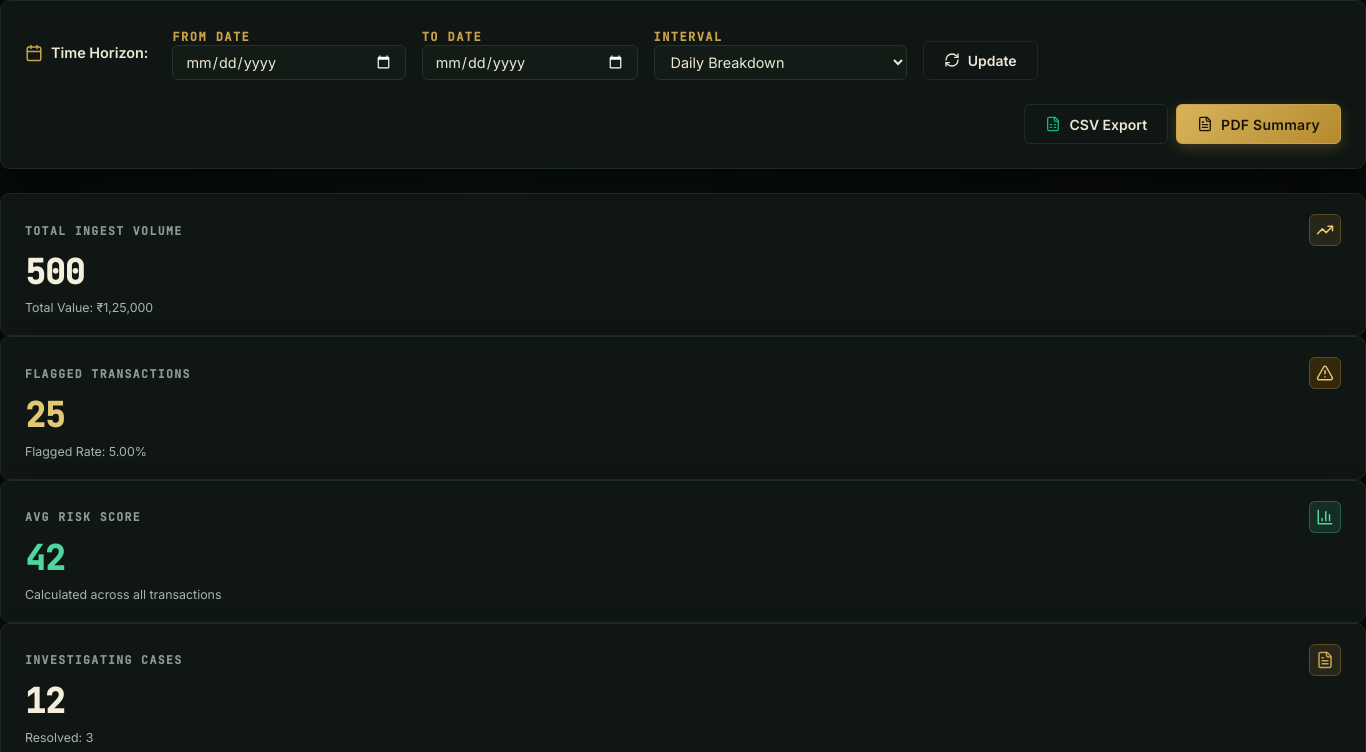
Test case: ReportsPage › shows error banner when report export action fails
Expected: the text "500" is shown, 25,248 -> 84,294
Step 1. Click the button "PDF Summary" → (1259, 124), box 1176,104 -> 1341,144
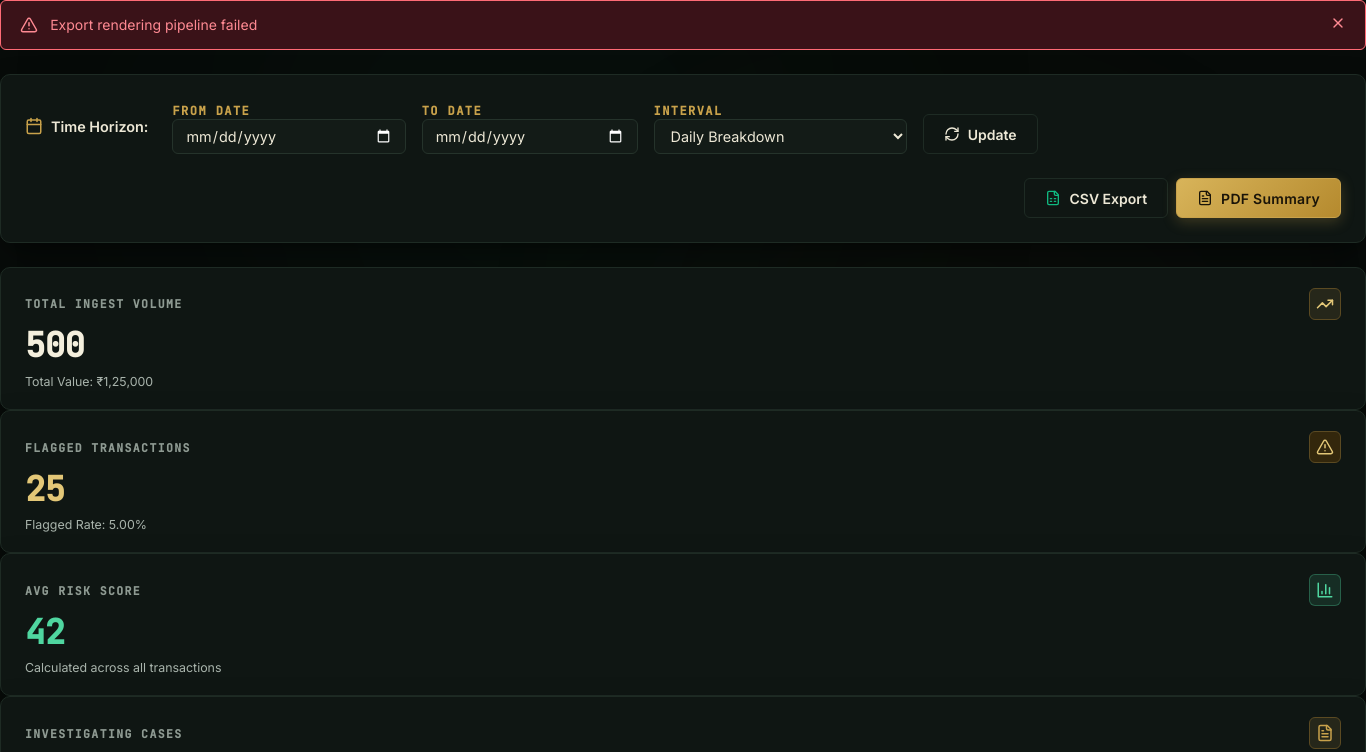
Expected: the text "Export rendering pipeline failed" is shown, 50,16 -> 257,33
